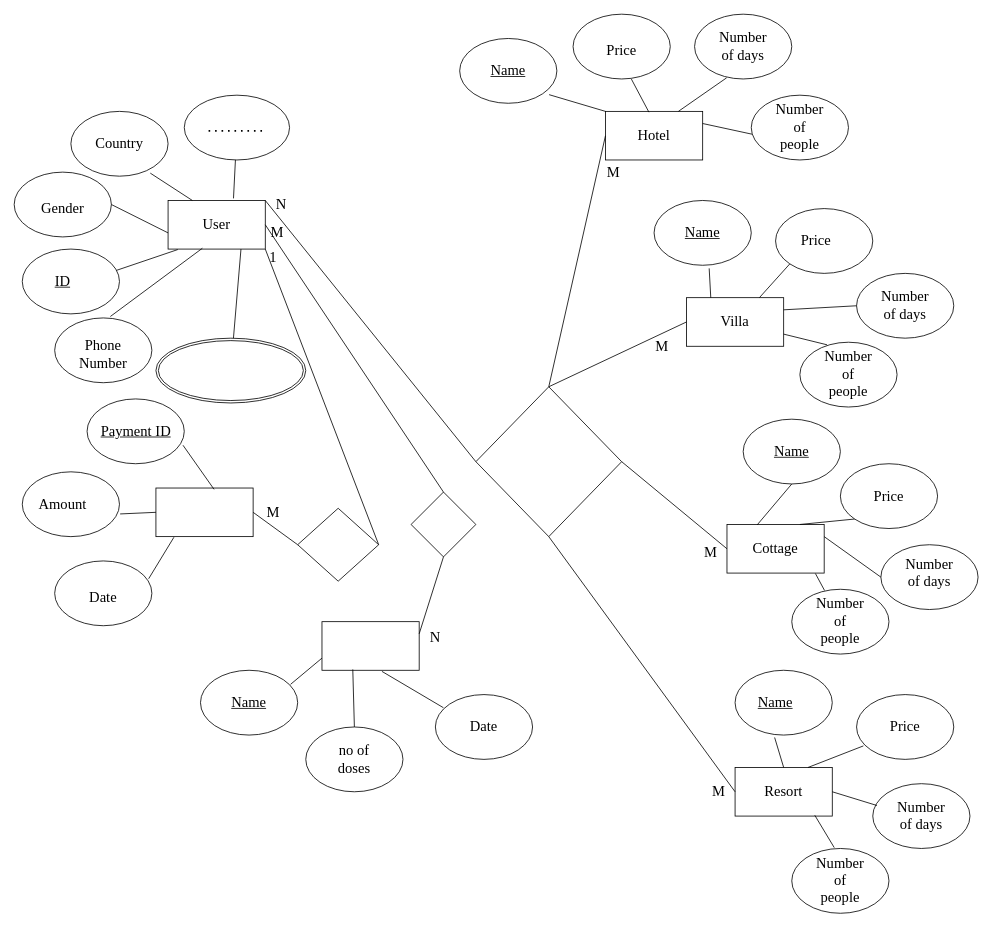
Some shapes in this 992 by 927 pixel diagram are drawn without their labels. Here are the shapes that lost their labels. From the top down, the box of each, then its label:
(183, 94, 290, 160): User name
(155, 337, 306, 403): E-mail
(475, 386, 622, 537): Book
(155, 487, 253, 537): Payment
(410, 491, 476, 557): Get
(297, 507, 379, 581): Pay
(321, 621, 419, 670): Vaccination details
